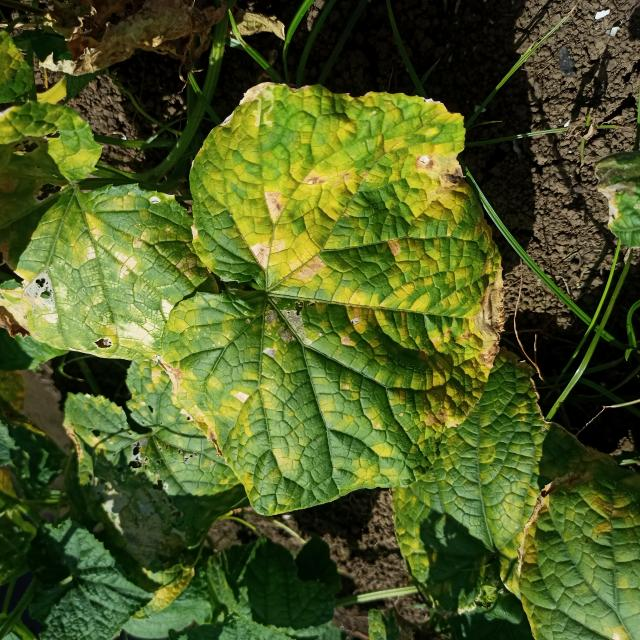disease_cucumber: (164, 82, 504, 518), (17, 187, 195, 369)
